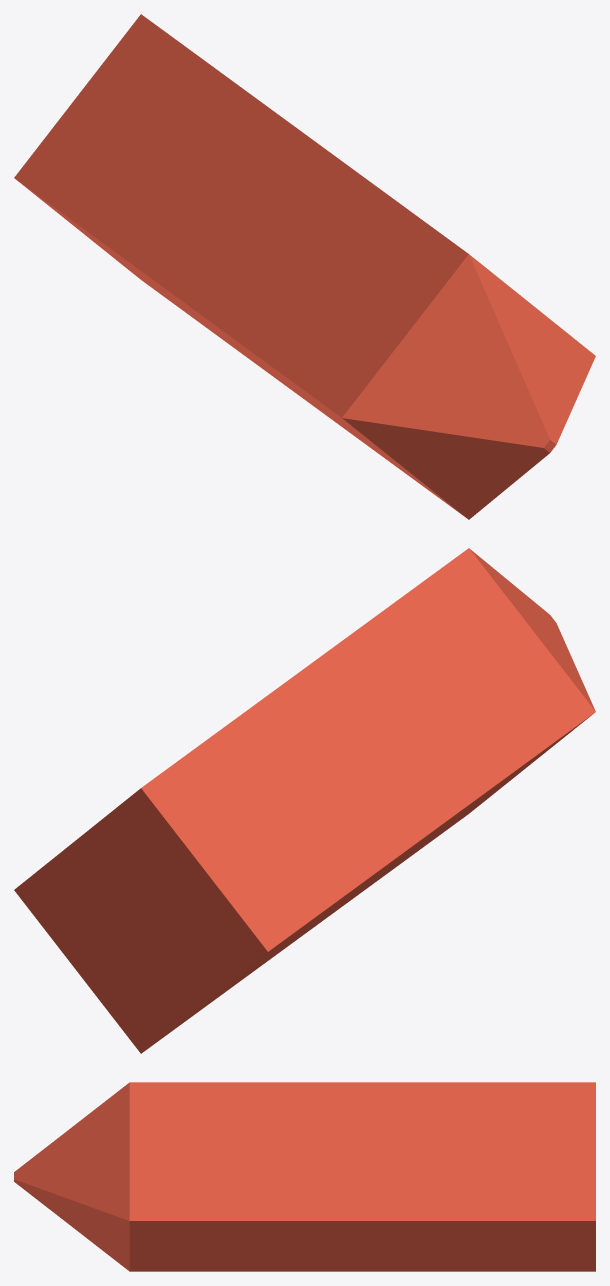
The model's file is Door_eye.fbx.
3 renders of one model, top to bottom at view 1: azimuth 30°, elevation 25°; view 2: azimuth 150°, elevation 25°; view 3: azimuth 270°, elevation 25°, orthographic. The views are drawn at different scales.
Parts seen in each view (by area): view 1: Door_eye; view 2: Door_eye; view 3: Door_eye.
Boxes of the visible parts, x1,y1,x2,y2 form: Door_eye: (14,14,595,519); Door_eye: (14,548,595,1053); Door_eye: (14,1082,595,1271).
Size of the model in its own units: 0.1139 by 0.1139 by 0.3178.
